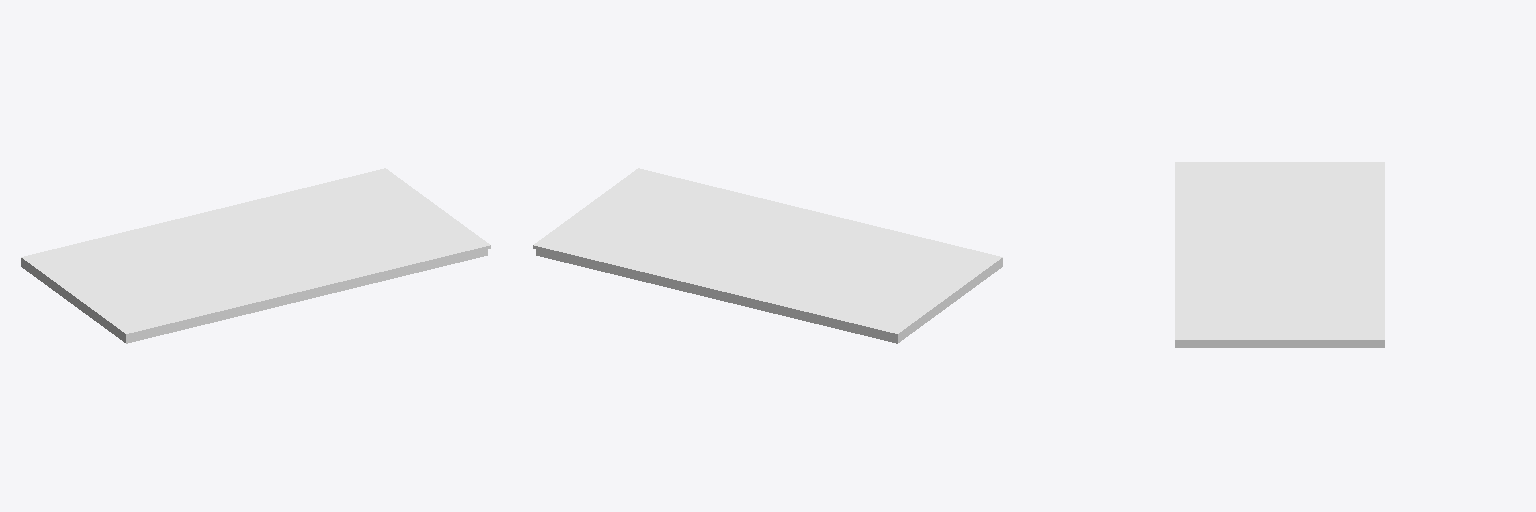
File: chaoinferior.obj
The picture shows the model from 3 angles: view 1: azimuth 30°, elevation 25°; view 2: azimuth 150°, elevation 25°; view 3: azimuth 270°, elevation 25°; orthographic projection.
Size of the model in its own units: 120 by 3 by 60.